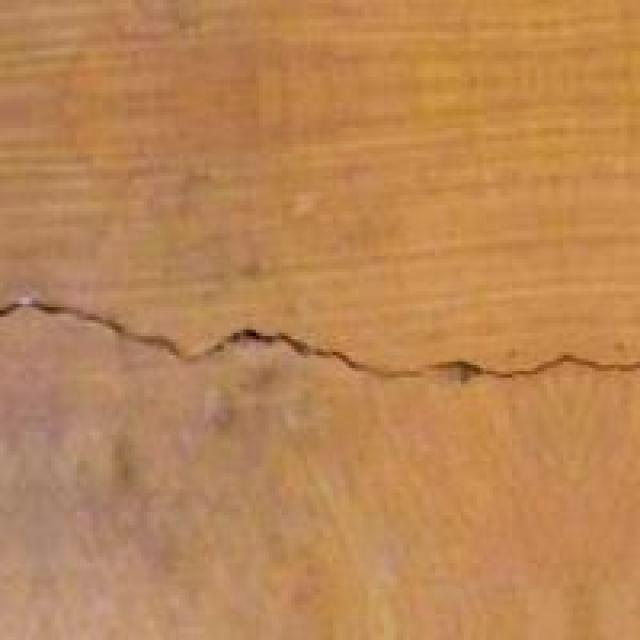SurfaceCrack: (0, 252, 632, 414)
